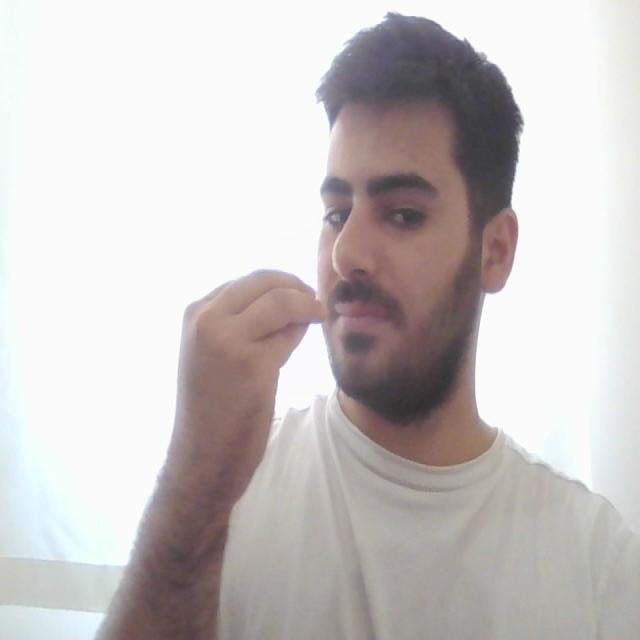Yemek: (179, 263, 383, 348)
